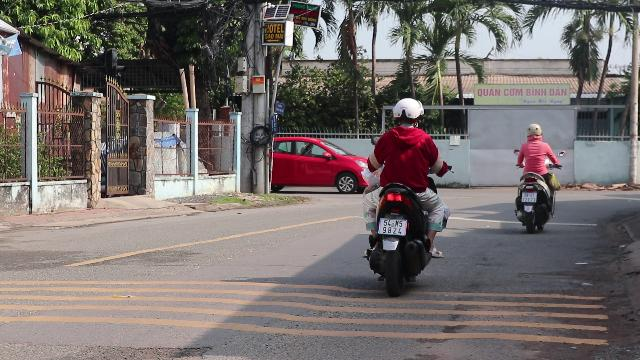helmet: (390, 96, 424, 128), (525, 122, 543, 140)
licenseplate: (379, 218, 405, 234), (522, 193, 536, 203)
motorcyclist: (356, 95, 452, 289), (512, 122, 560, 231)
